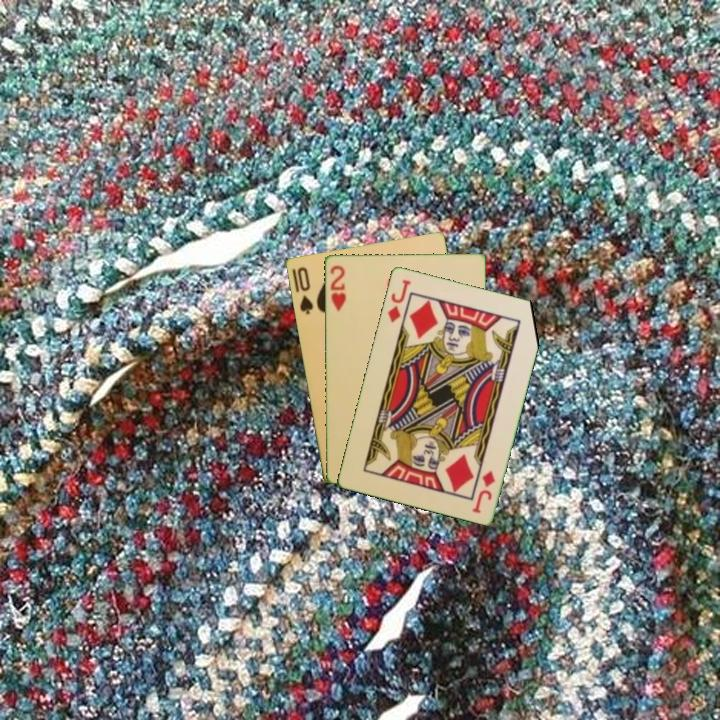10s: (293, 263, 316, 317)
2h: (326, 262, 349, 314)
Jd: (468, 467, 498, 516), (384, 276, 413, 325)
